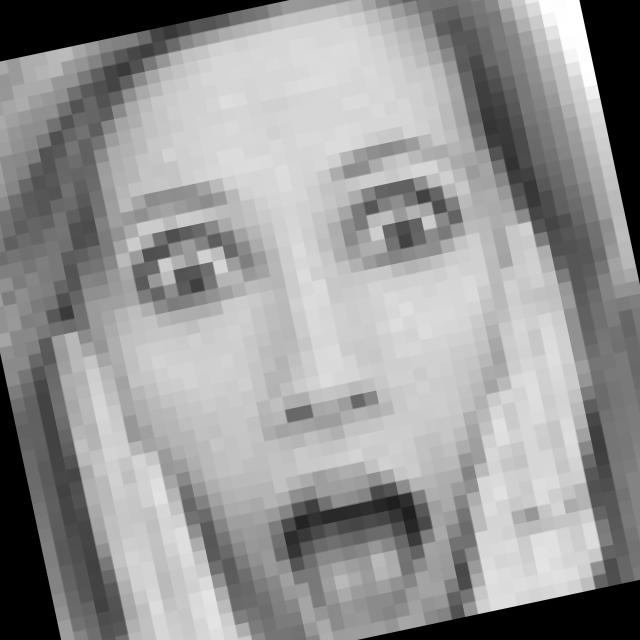surprise: (75, 109, 576, 640)
